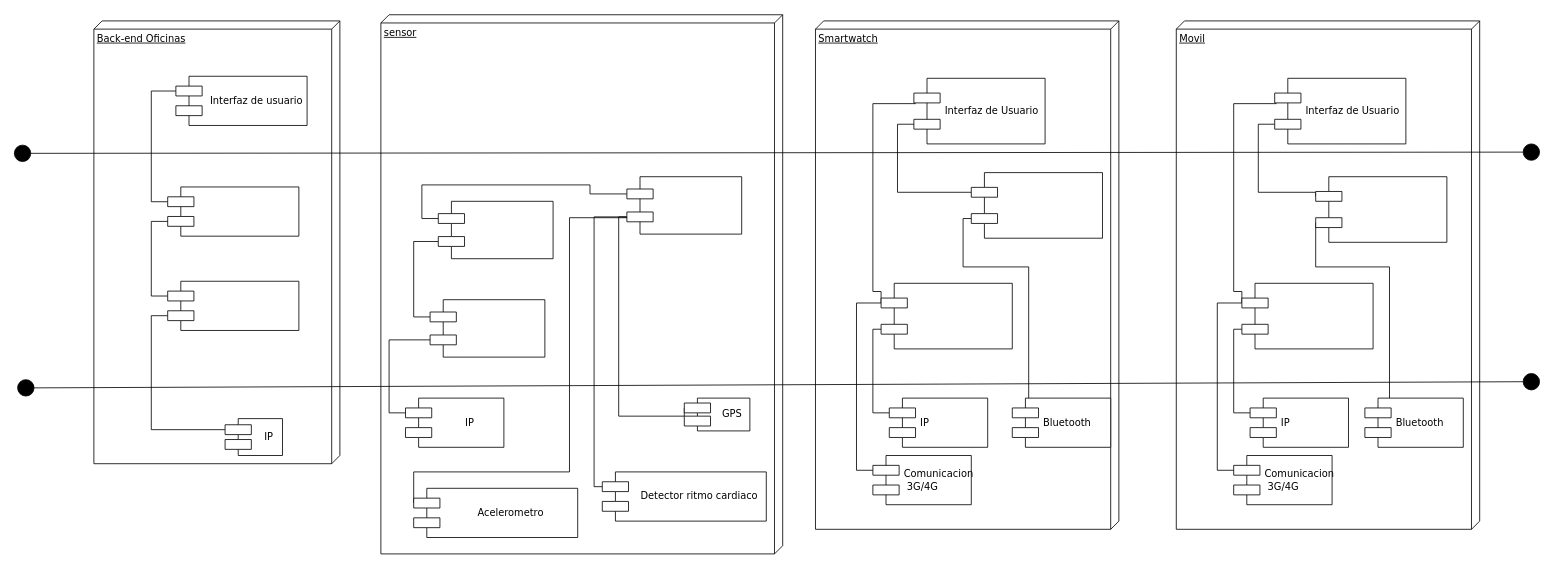
Some shapes in this 1554 by 568 pixel diagram are drawn without their labels. The centre of each missing label's shape, as x and y in pixels:
"Control de operaciones y recepción de alertas" belongs at pixel 1307 315.
"Controlador de operaciones y alertas" belongs at pixel 946 315.
"Detección móvil" belongs at pixel 1036 205.
"Detección Smartwhatch" belongs at pixel 1381 209.
"Gestion de Alerta" belongs at pixel 233 211.
"Module Captura de datos" belongs at pixel 684 205.
"Module Cifrado de datos" belongs at pixel 495 229.
"Modulo descifrador" belongs at pixel 233 305.
"Publicador" belongs at pixel 487 328.
